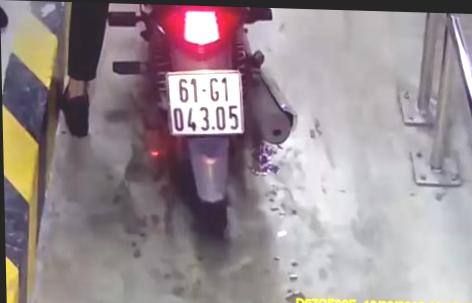License_Plate: (159, 68, 249, 141)
